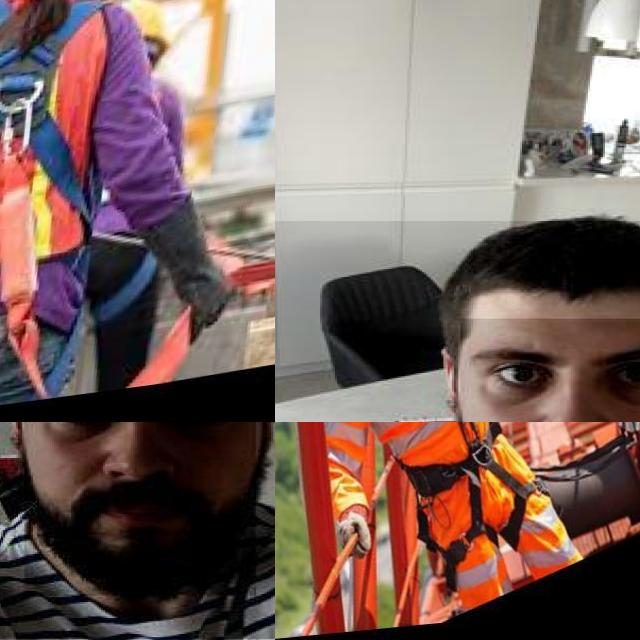Harness: (0, 0, 99, 216), (398, 422, 527, 538)
No_Ear-Protection: (439, 346, 474, 414), (0, 422, 38, 450)
No_Glasses: (468, 341, 640, 415), (27, 422, 131, 455)
face_nomask: (24, 422, 258, 597), (460, 318, 640, 422)
head_nohelmet: (441, 242, 640, 322)
person: (275, 220, 640, 422), (0, 422, 275, 640)
